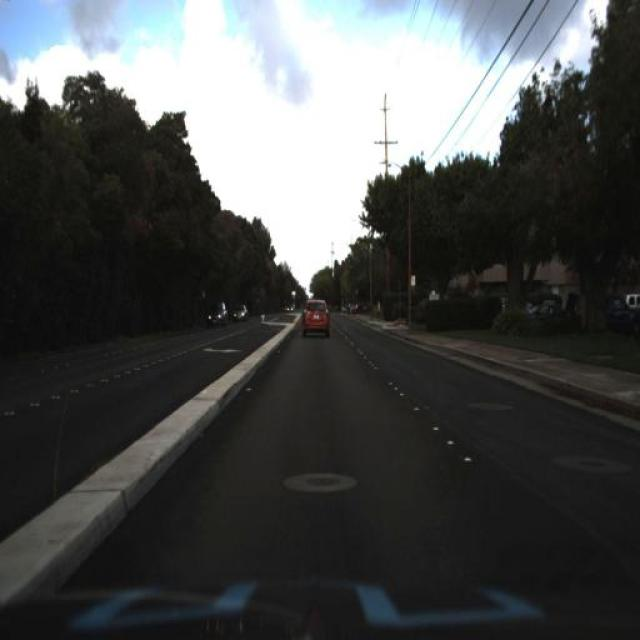car: (302, 297, 332, 339), (204, 297, 228, 324), (230, 298, 250, 326), (234, 300, 248, 320)
trafficLight: (376, 299, 382, 321)
